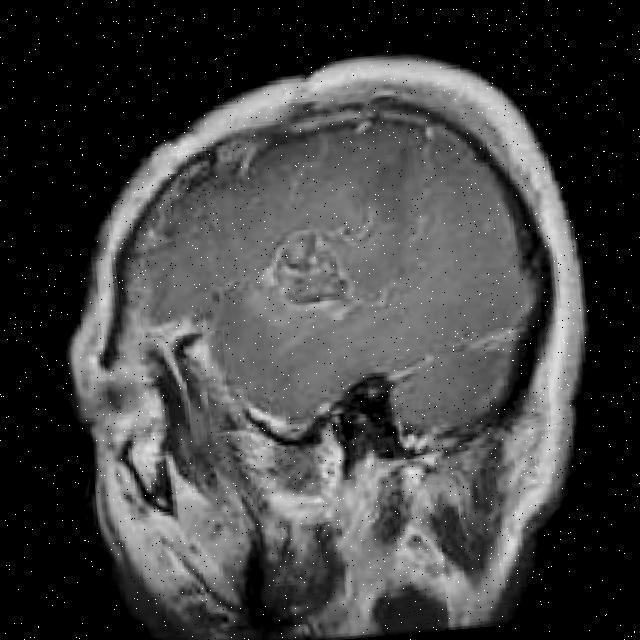MCI: (252, 211, 324, 277)
